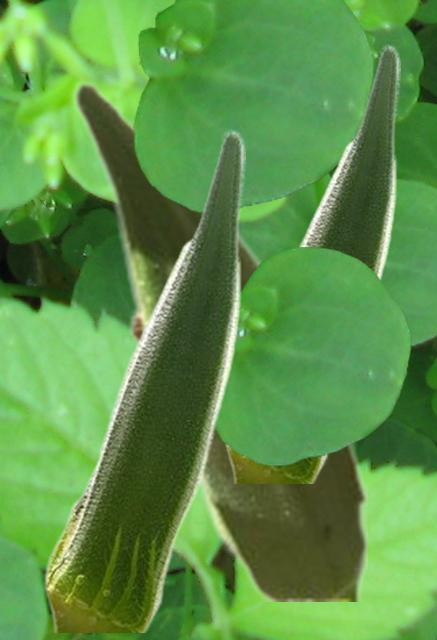okra: (71, 78, 366, 600), (43, 128, 244, 631), (224, 43, 399, 482)
